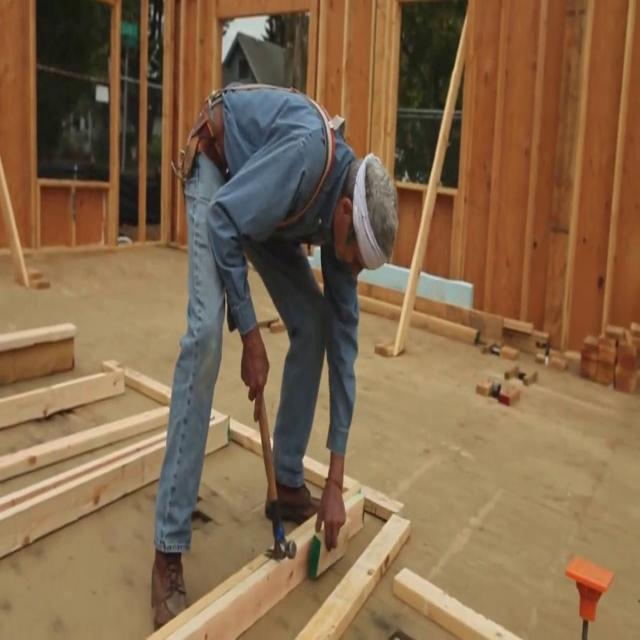hammer: (259, 391, 297, 560)
